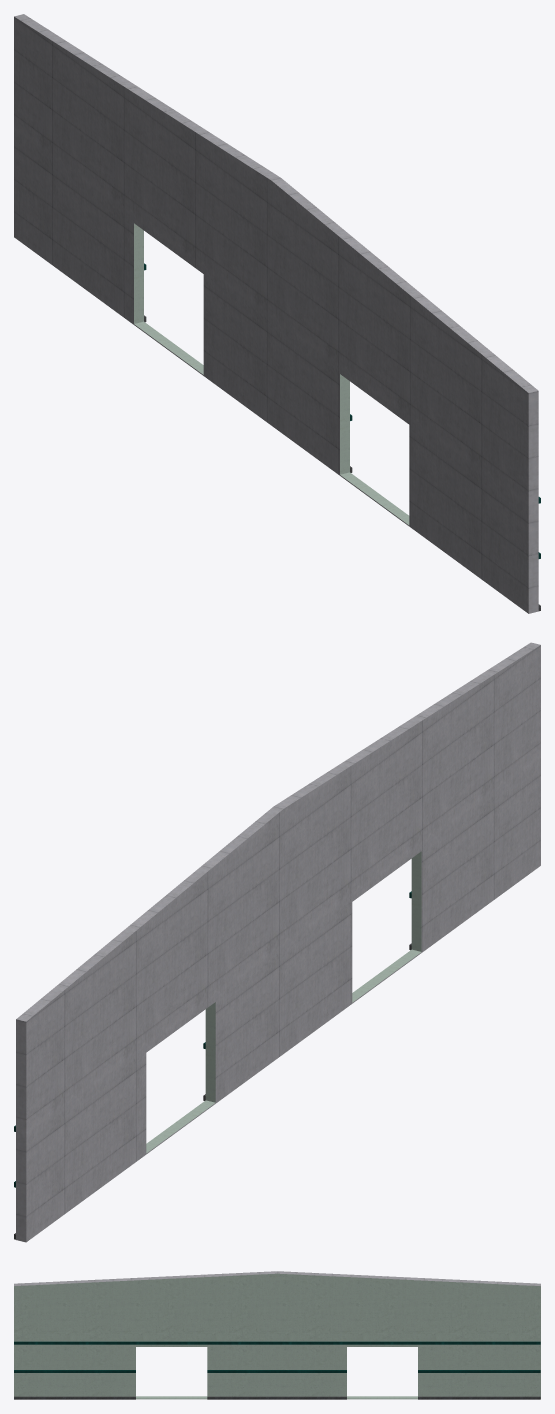
File: WareFront_Walls_Door.glb
The picture shows the model from 3 angles, top to bottom: view 1: azimuth 30°, elevation 25°; view 2: azimuth 150°, elevation 25°; view 3: azimuth 270°, elevation 25°; orthographic projection. The views are drawn at different scales.
Visible parts, largest first — view 1: WareFront_Walls_Door; view 2: WareFront_Walls_Door; view 3: WareFront_Walls_Door (×2), WareFront_Metal.
Part boxes in pixels (<box>): WareFront_Walls_Door: <box>14,14,538,613</box>; WareFront_Walls_Door: <box>16,642,540,1242</box>; WareFront_Walls_Door (×2): <box>14,1271,540,1399</box>; WareFront_Metal: <box>14,1341,540,1344</box>.
Bounding box in the file's own units: 0.5164 × 9.72 × 37.
4 materials, 4 textured.
